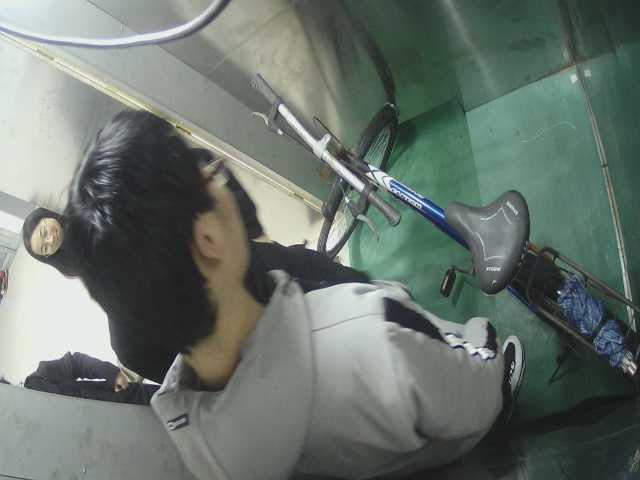bicycle: (247, 65, 634, 386)
person: (76, 112, 529, 474), (26, 202, 88, 286)
